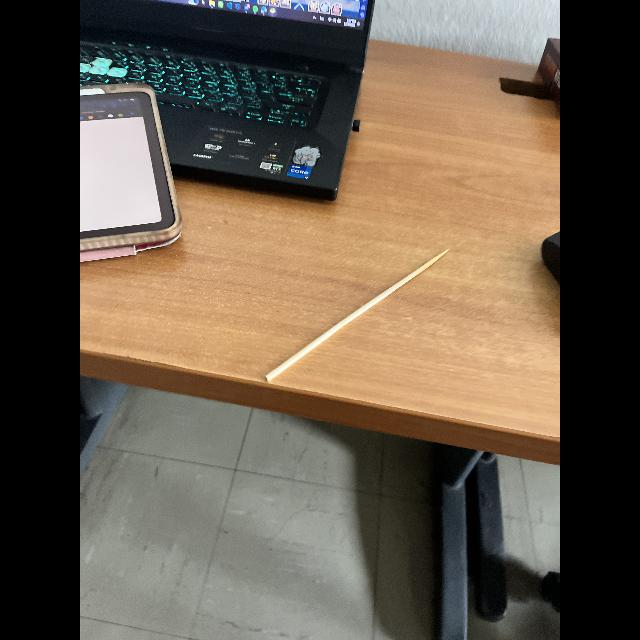stick: (250, 242, 458, 402)
